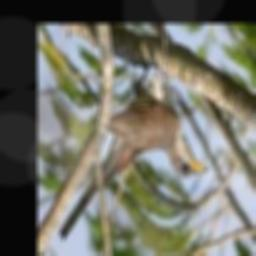Cuckoo: (60, 64, 210, 241)
